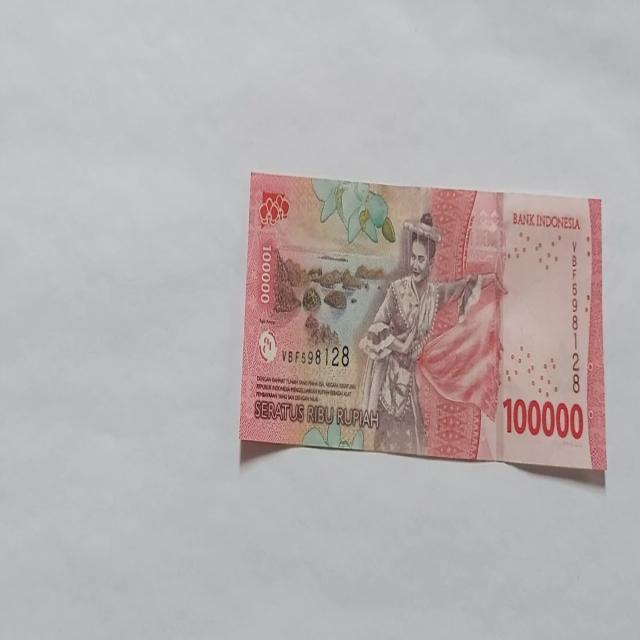seratus ribu rupiah: (239, 172, 606, 472), (353, 211, 505, 458)
